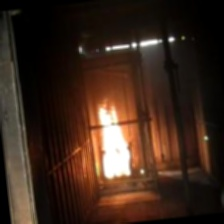fire: (90, 99, 134, 175)
